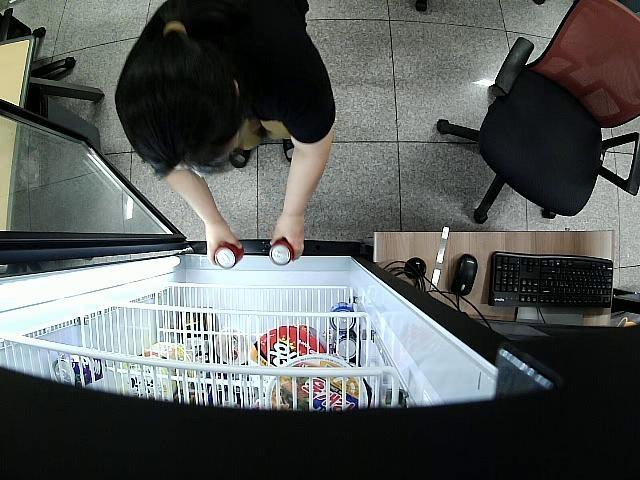11_cocaColaZero: (216, 243, 244, 268), (270, 241, 296, 266)
